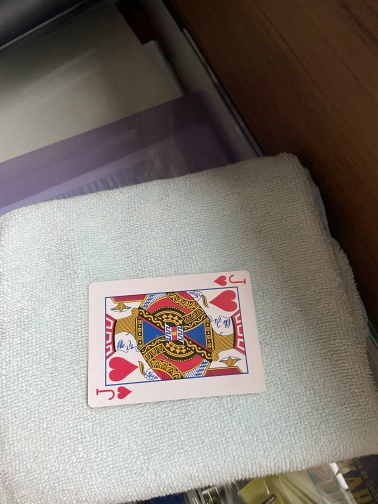jack: (85, 268, 269, 410)
